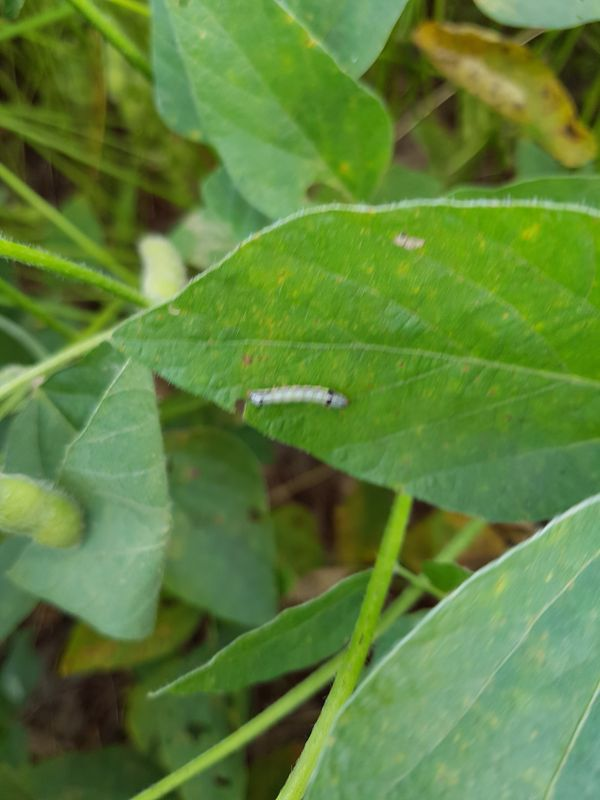Spodoptera_albula: (240, 374, 357, 431)
